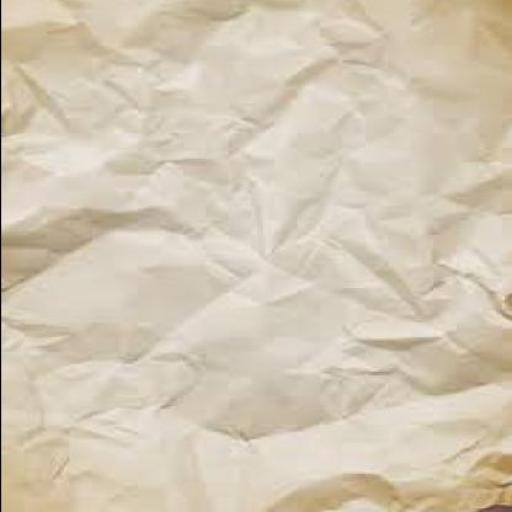paper: (0, 2, 510, 511)
